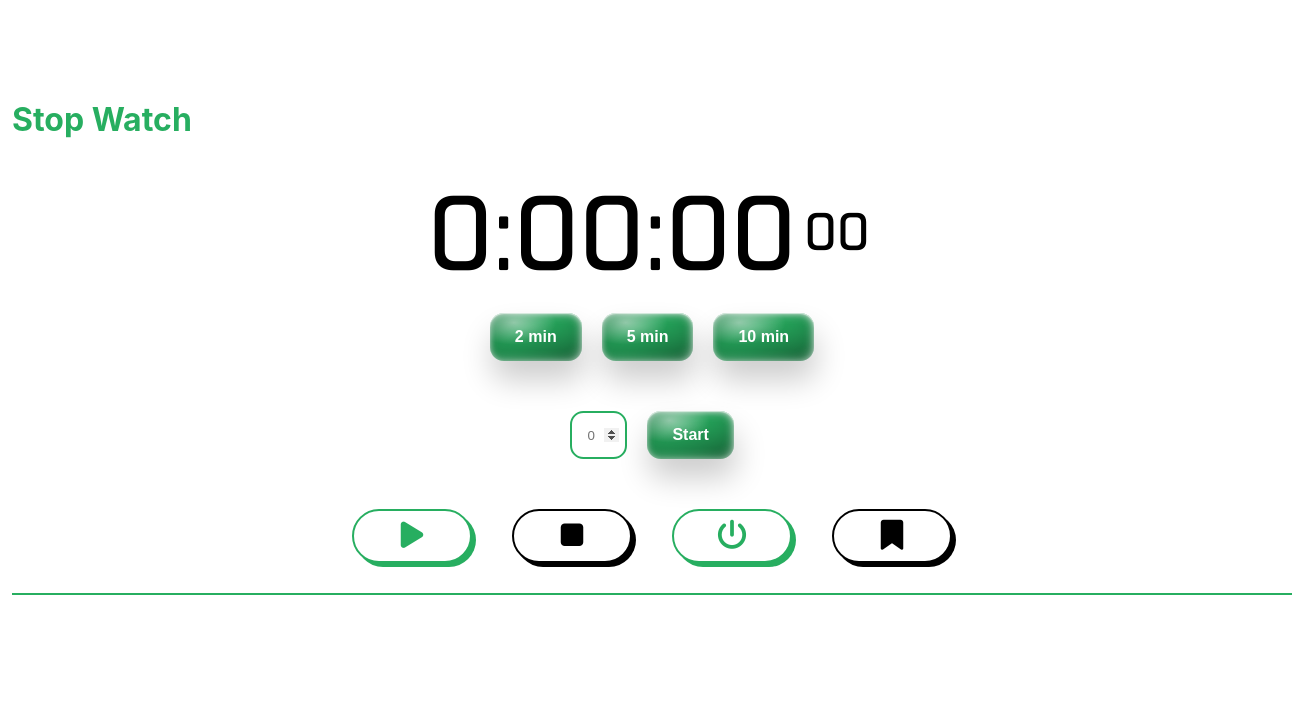
Test: If Start, Lapse, Stop, Reset button is Enabled.
Click the button with test id "start".
click(412, 536)  # box [352, 509, 472, 563]
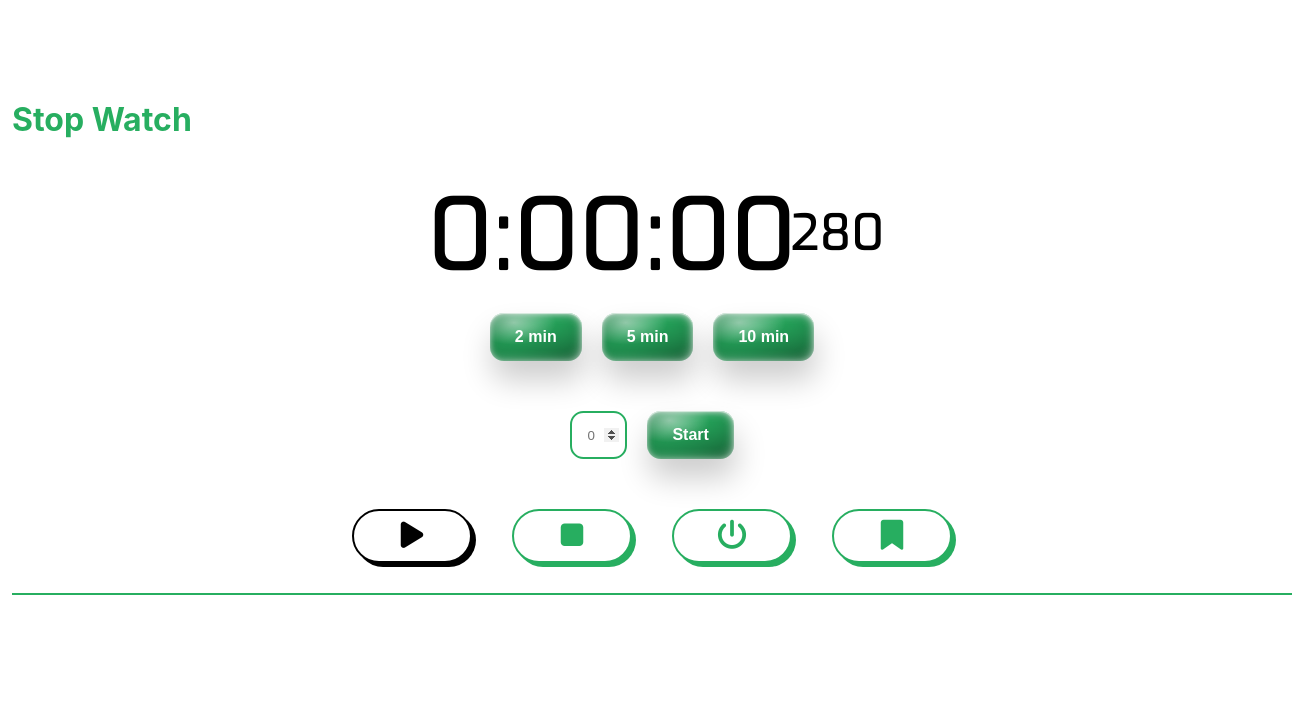
Expected: the button with test id "reset" is enabled, [672, 509, 792, 563]
Now the button with test id "lap" is enabled, box [832, 509, 952, 563]
Now the button with test id "stop" is enabled, box [512, 509, 632, 563]
